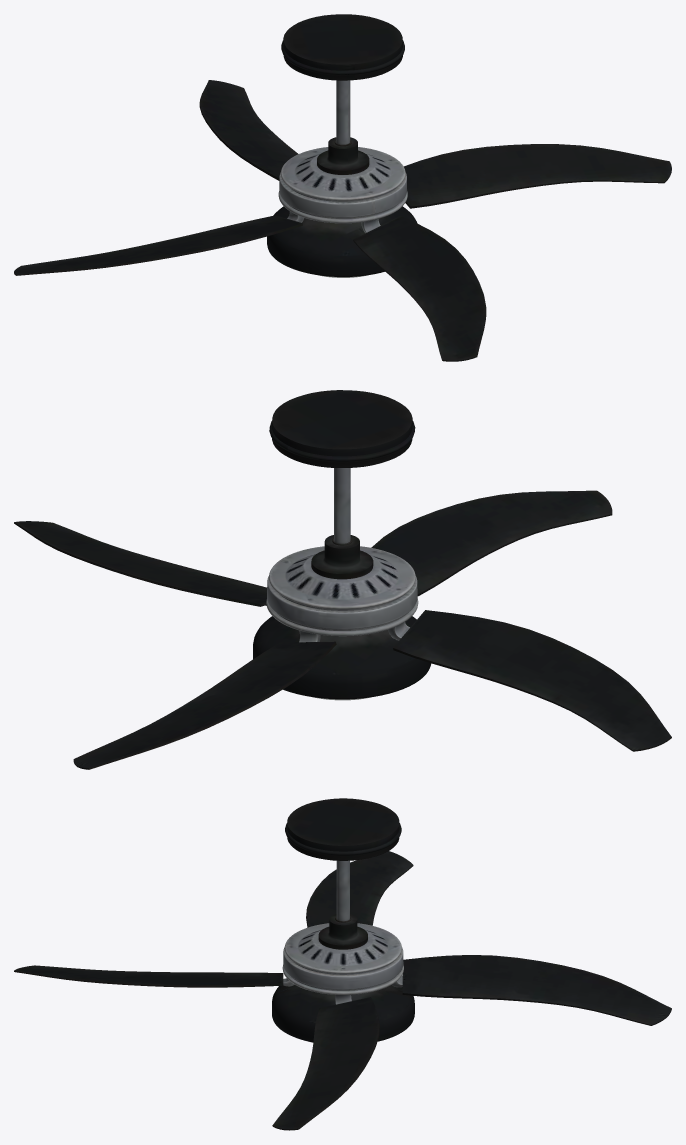
File: ceiling_fan.glb
The picture shows the model from 3 angles, top to bottom: view 1: azimuth 30°, elevation 25°; view 2: azimuth 150°, elevation 25°; view 3: azimuth 270°, elevation 25°; orthographic projection. The views are drawn at different scales.
Visible parts, largest first — view 1: ceiling_fan_blades, ceiling_fan; view 2: ceiling_fan_blades, ceiling_fan; view 3: ceiling_fan_blades, ceiling_fan.
Boxes of the visible parts, x1=… form: ceiling_fan_blades: x1=14, y1=80, x2=671, y2=361; ceiling_fan: x1=267, y1=14, x2=417, y2=277; ceiling_fan_blades: x1=14, y1=490, x2=671, y2=769; ceiling_fan: x1=253, y1=390, x2=431, y2=700; ceiling_fan_blades: x1=14, y1=851, x2=671, y2=1130; ceiling_fan: x1=272, y1=798, x2=414, y2=1042.
Size of the model in its own units: 1.46 by 0.5163 by 1.46.
1 material, 1 textured.
